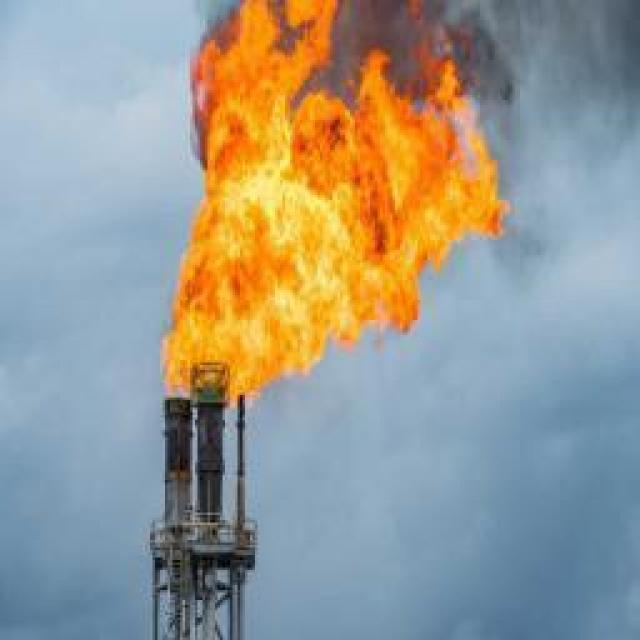fire: (159, 0, 508, 411)
smoke: (293, 0, 640, 283)
